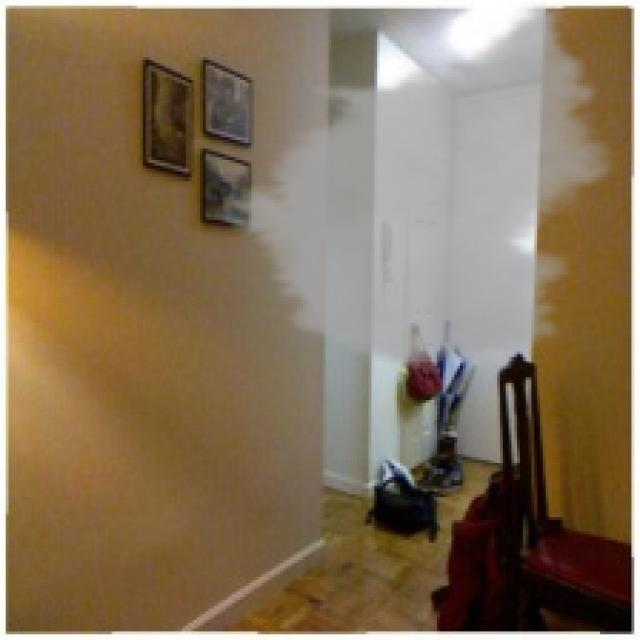Smoke: (223, 2, 626, 372)
